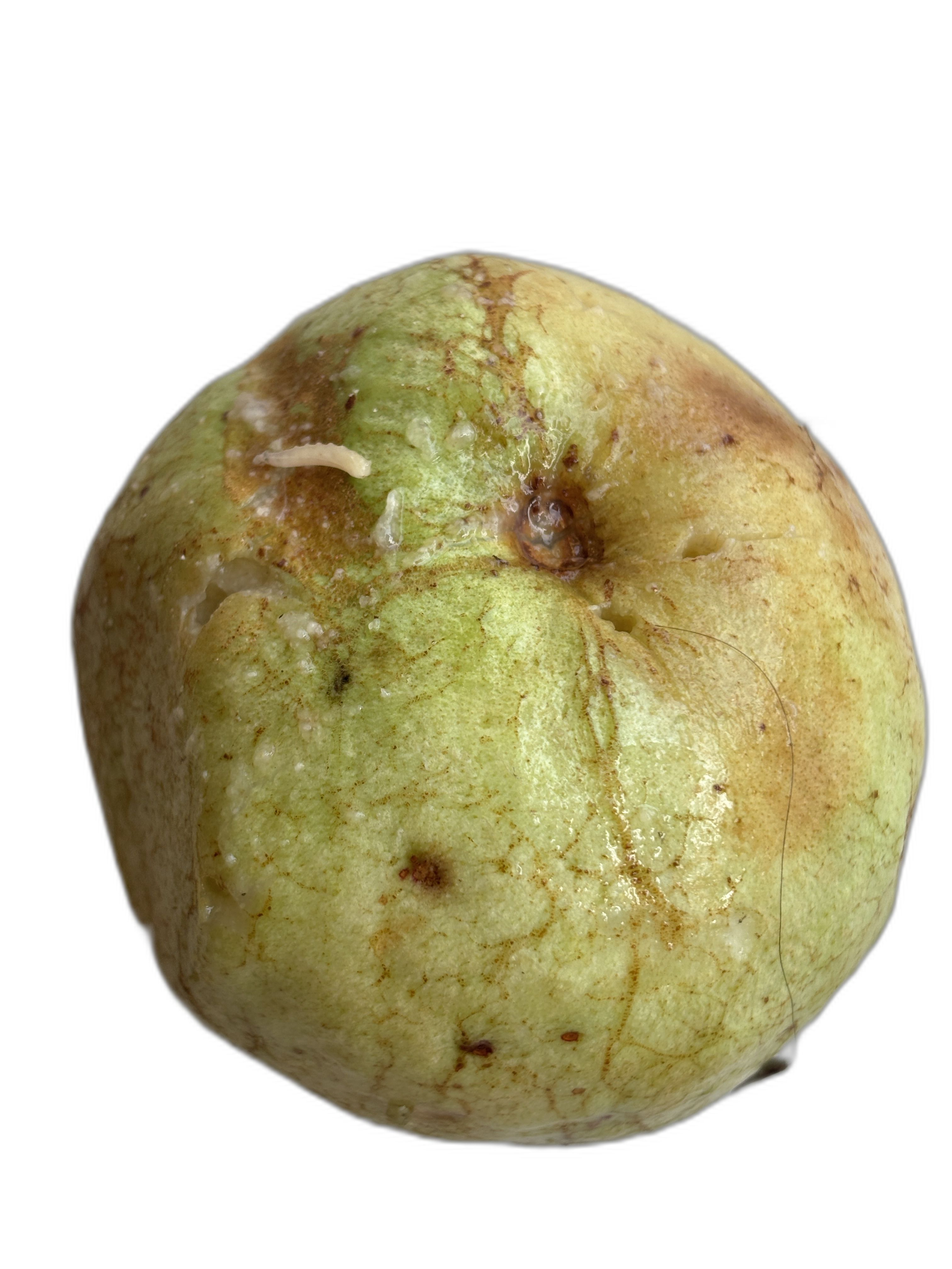guava: (86, 6, 892, 1056)
